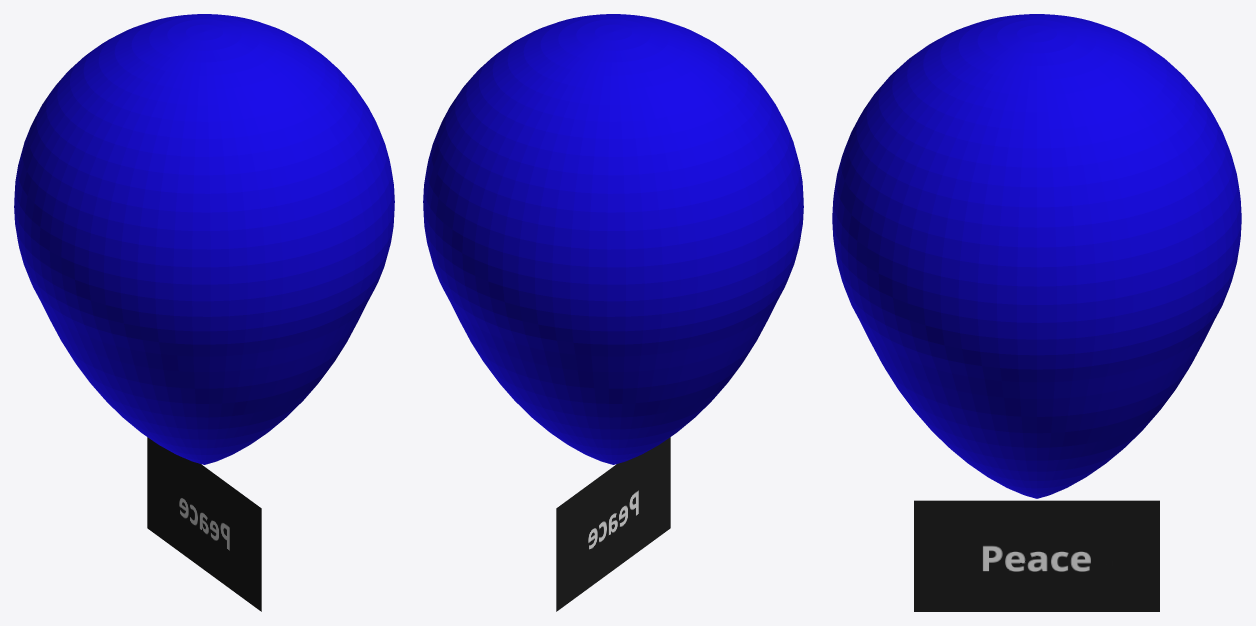
Rendered from ballon_01.glb.
The picture shows the model from 3 angles, left to right: view 1: azimuth 30°, elevation 25°; view 2: azimuth 150°, elevation 25°; view 3: azimuth 270°, elevation 25°; orthographic projection. The views are drawn at different scales.
Parts seen in each view (by area): view 1: Balloon_1, Sign; view 2: Balloon_1, Sign; view 3: Balloon_1, Sign.
Part boxes in pixels (x1,y1,x2,y2): Balloon_1: [14, 14, 394, 464]; Sign: [147, 437, 261, 611]; Balloon_1: [423, 14, 803, 464]; Sign: [556, 437, 670, 611]; Balloon_1: [832, 14, 1241, 498]; Sign: [914, 500, 1159, 611].
Bounding box in the file's own units: 2 × 3.12 × 2.
Materials: 2 (1 with a texture image).
